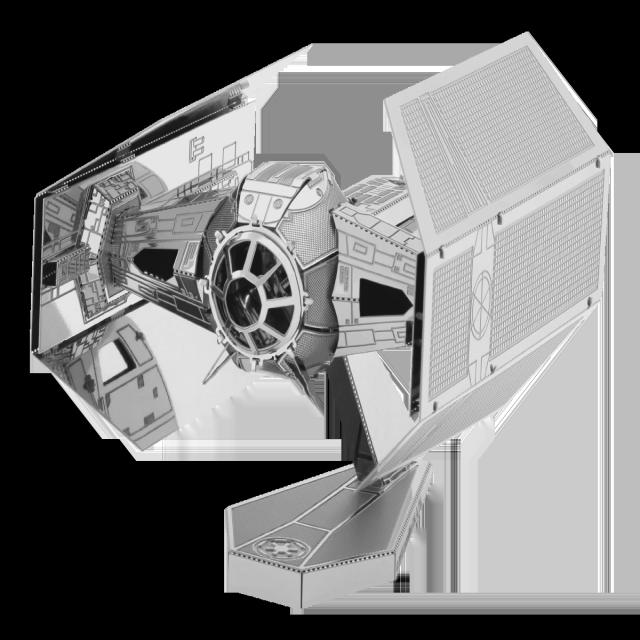tie fighter: (9, 18, 628, 482)
